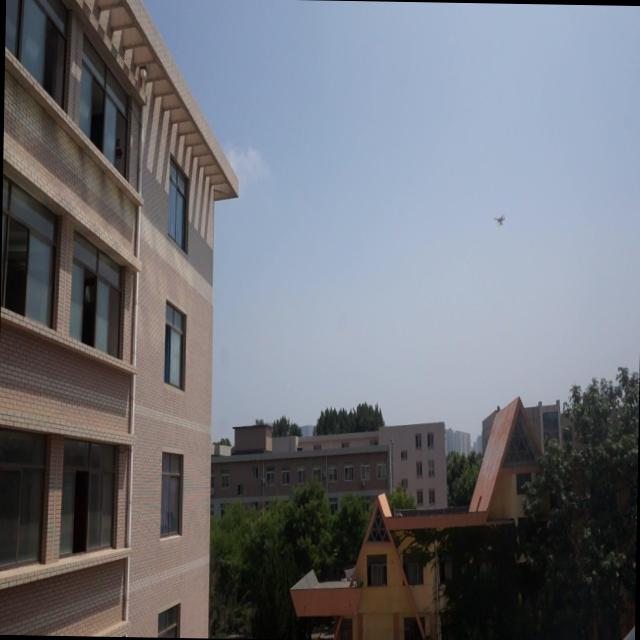drone: (490, 209, 508, 231)
